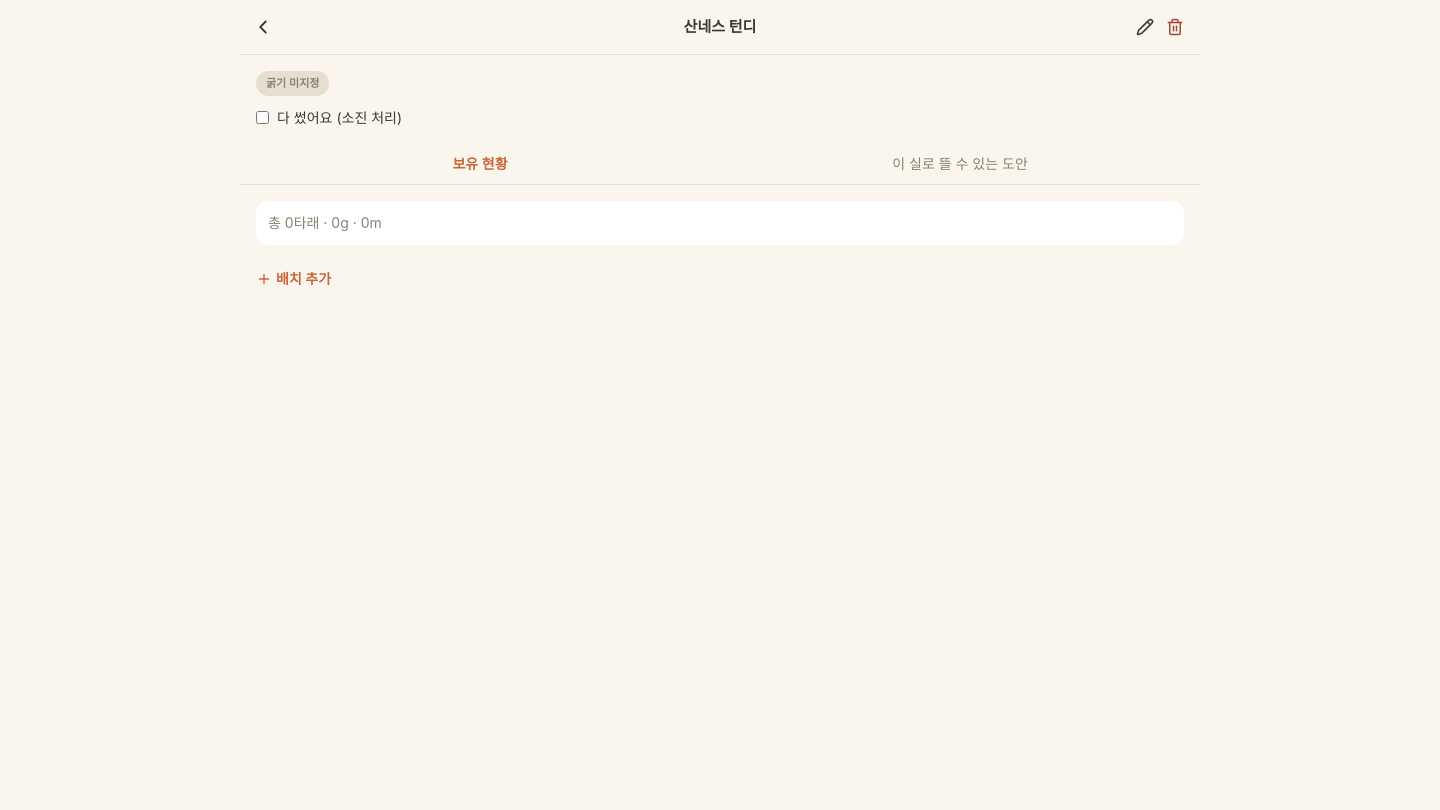
Test: YarnDetailPage 삭제 › 서버에 닿지 못하면 네트워크 안내를 보여준다
Step 1. Click the button named "삭제" → (1175, 27), box [1162, 14, 1188, 40]
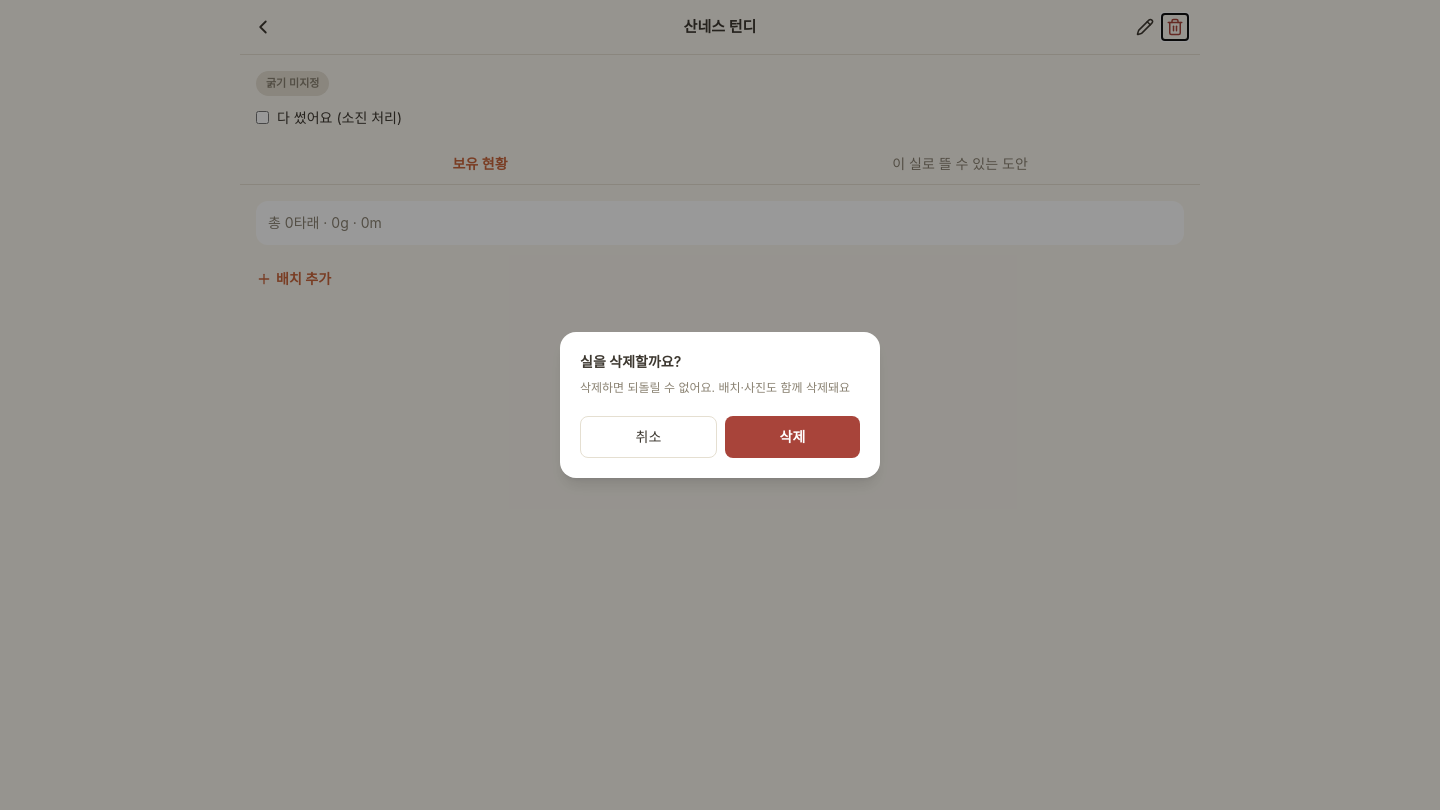
Step 2. Click the button "삭제" → (792, 437), box [725, 416, 860, 458]
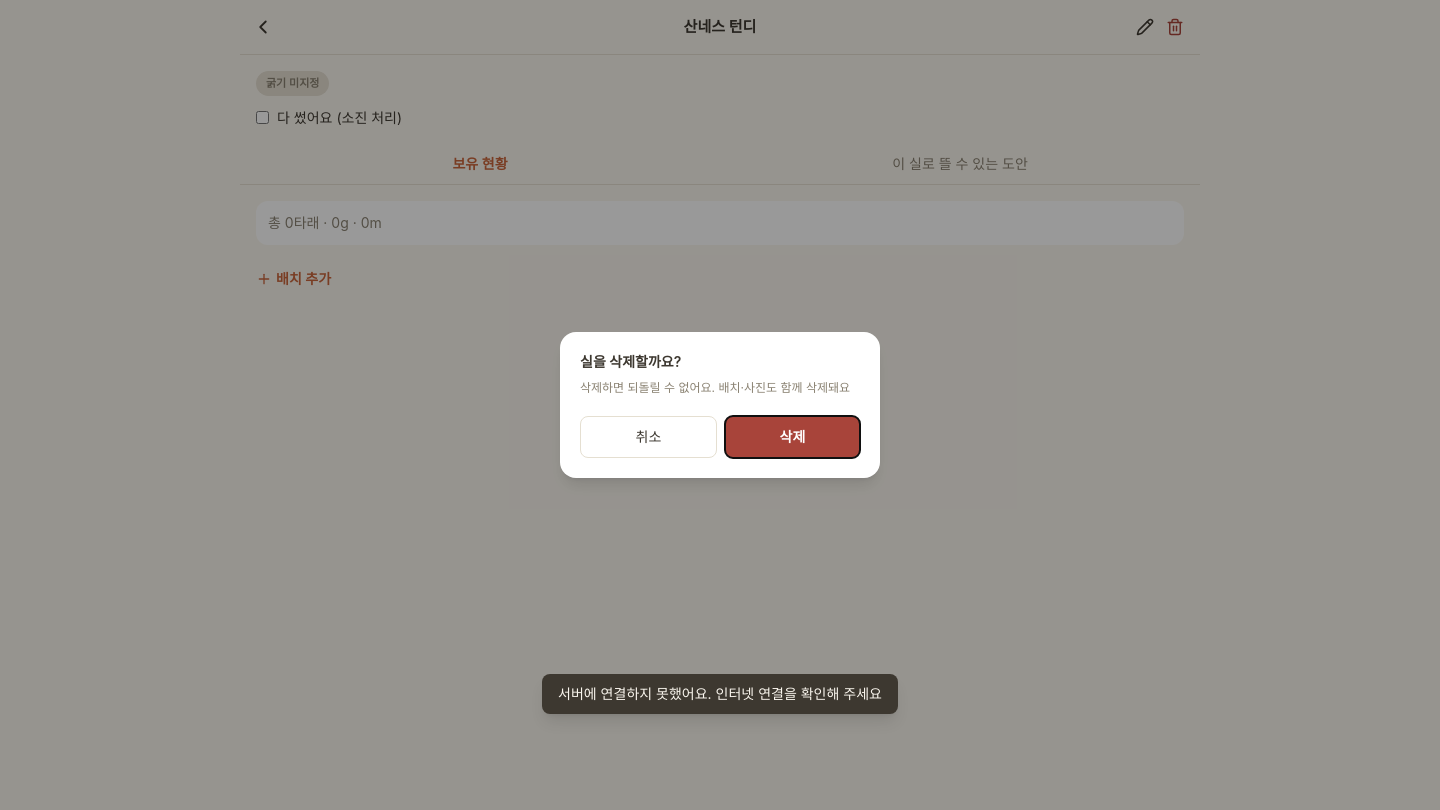
Expected: the message reads "서버에 연결하지 못했어요. 인터넷 연결을 확인해 주세요", [558, 685, 882, 702]
